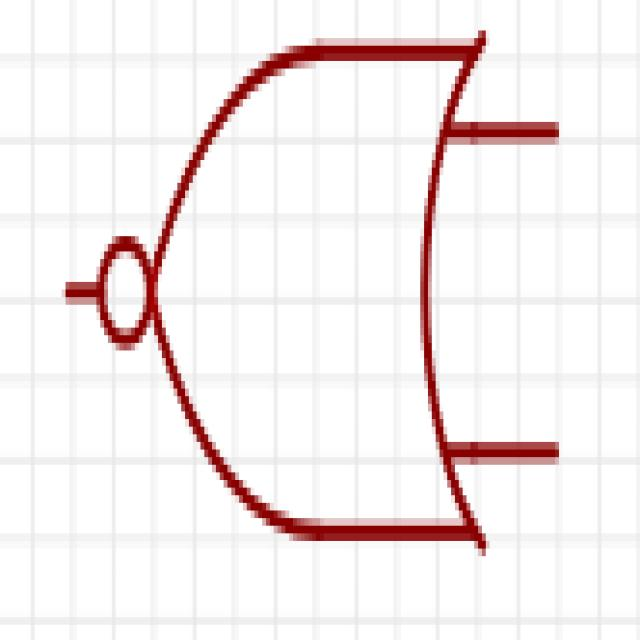nor: (60, 32, 565, 590)
